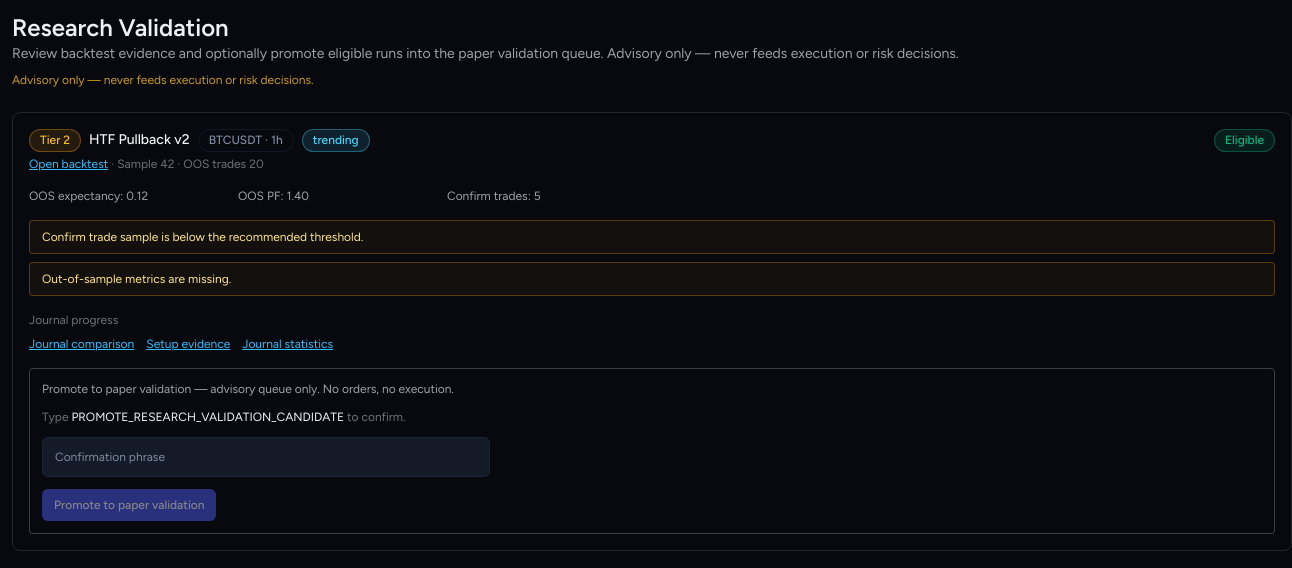
Test case: ResearchValidationPage AT-035 › disables promote submit until confirm phrase typed
Check: the button with test id "research-validation-promote-submit" is disabled, box x1=42 y1=489 x2=216 y2=521
In the field with test id "research-validation-promote-confirm": {"x": 266, "y": 457} x1=42 y1=437 x2=490 y2=477, type "PROMOTE_RESEARCH_VALIDATION_CANDIDATE"
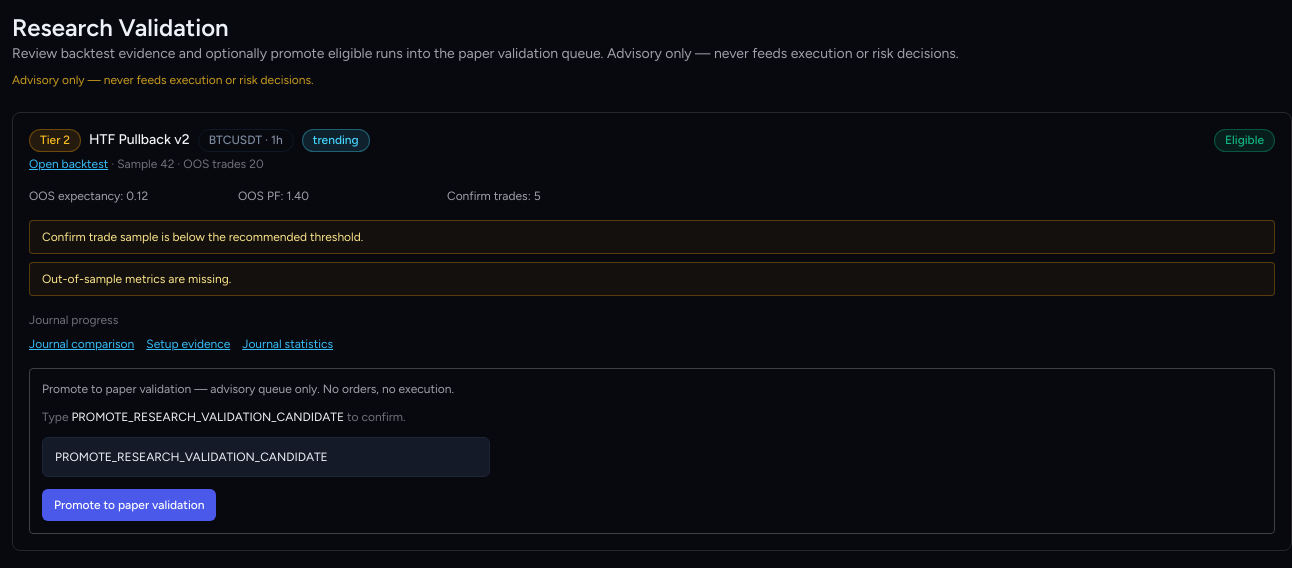
Check: the button with test id "research-validation-promote-submit" is enabled, box x1=42 y1=489 x2=216 y2=521
